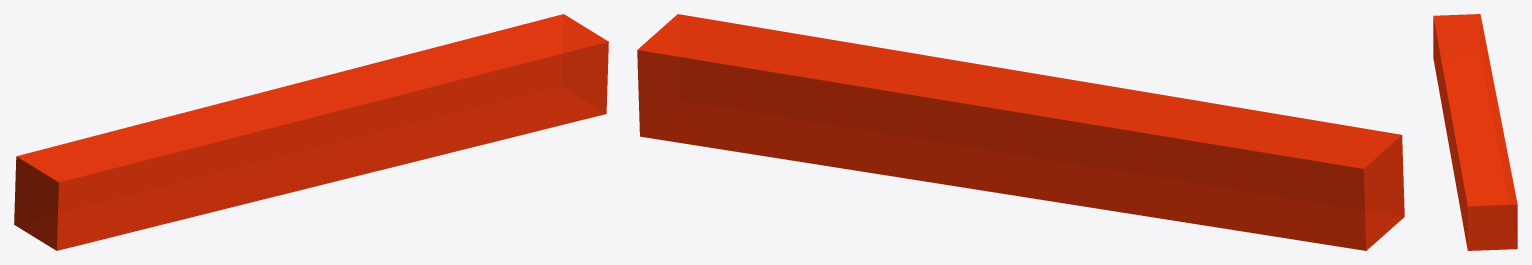
Rendered from Event_421278790_EErechit_52.fbx.
3 renders of one model, left to right at view 1: azimuth 30°, elevation 25°; view 2: azimuth 150°, elevation 25°; view 3: azimuth 270°, elevation 25°, orthographic. The views are drawn at different scales.
Parts seen in each view (by area): view 1: Model; view 2: Model; view 3: Model.
Part boxes in pixels (box(x1,y1,x2,y2)): Model: box(14, 14, 608, 250); Model: box(637, 14, 1404, 250); Model: box(1433, 14, 1517, 250).
Size of the model in its own units: 0.6533 by 0.0981 by 0.1292.
